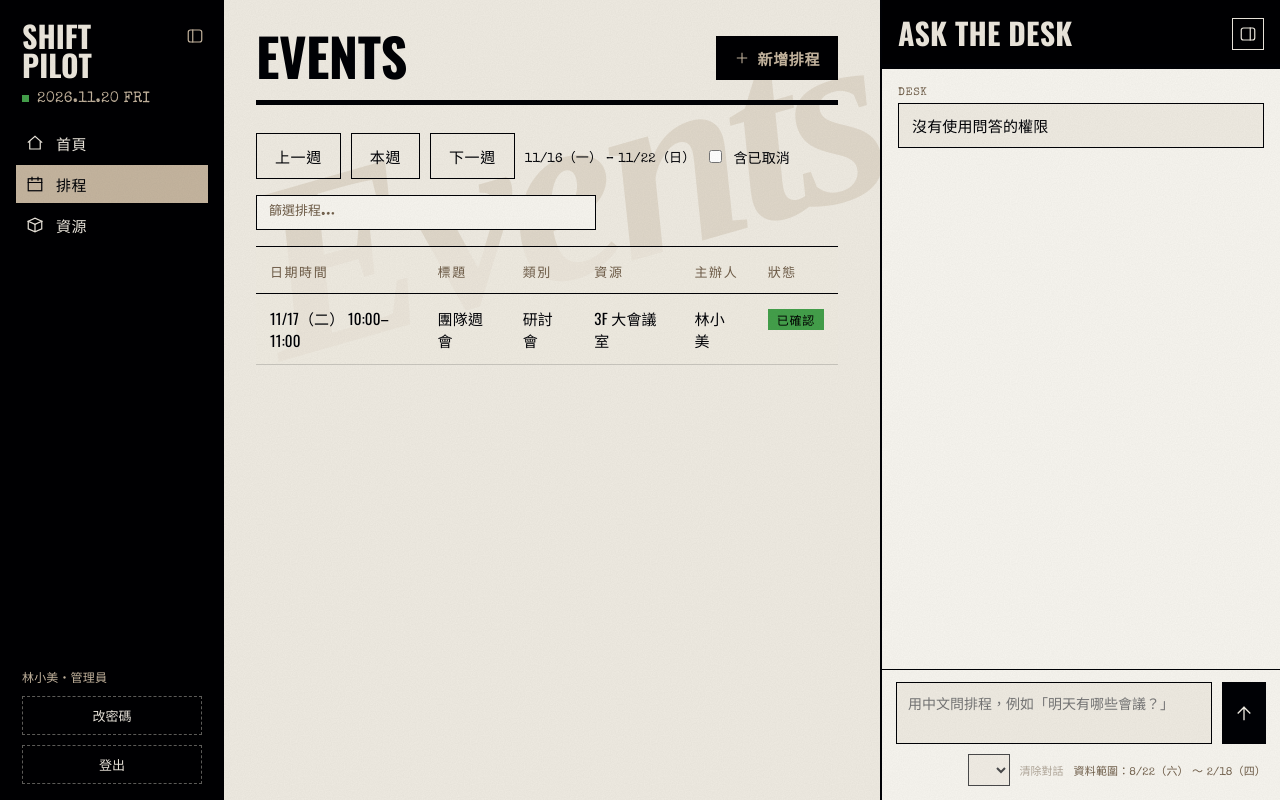
it: testEditKeepsCategoryOutsideTheList
Click the text "團隊週會" at (466, 329), box [424,294,509,365]
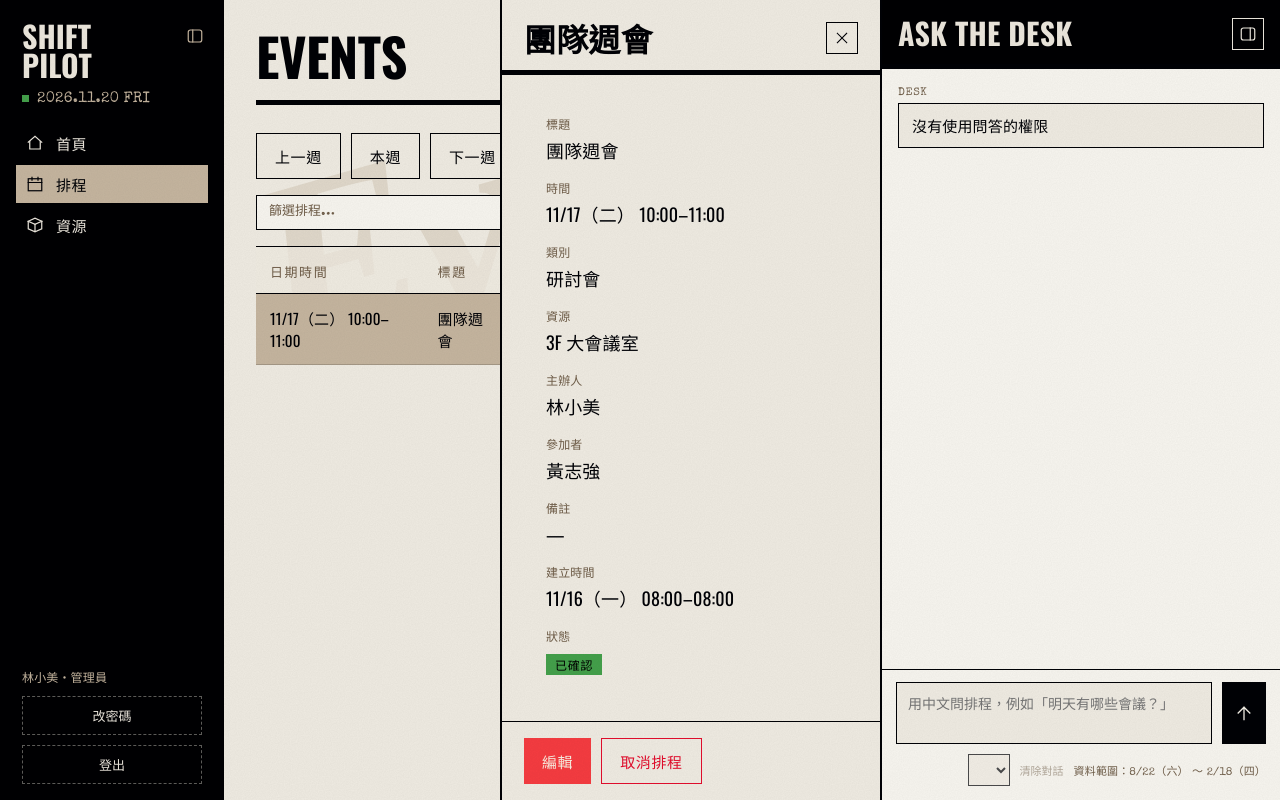
Click the button "編輯" at (558, 761), box [524,738,591,784]
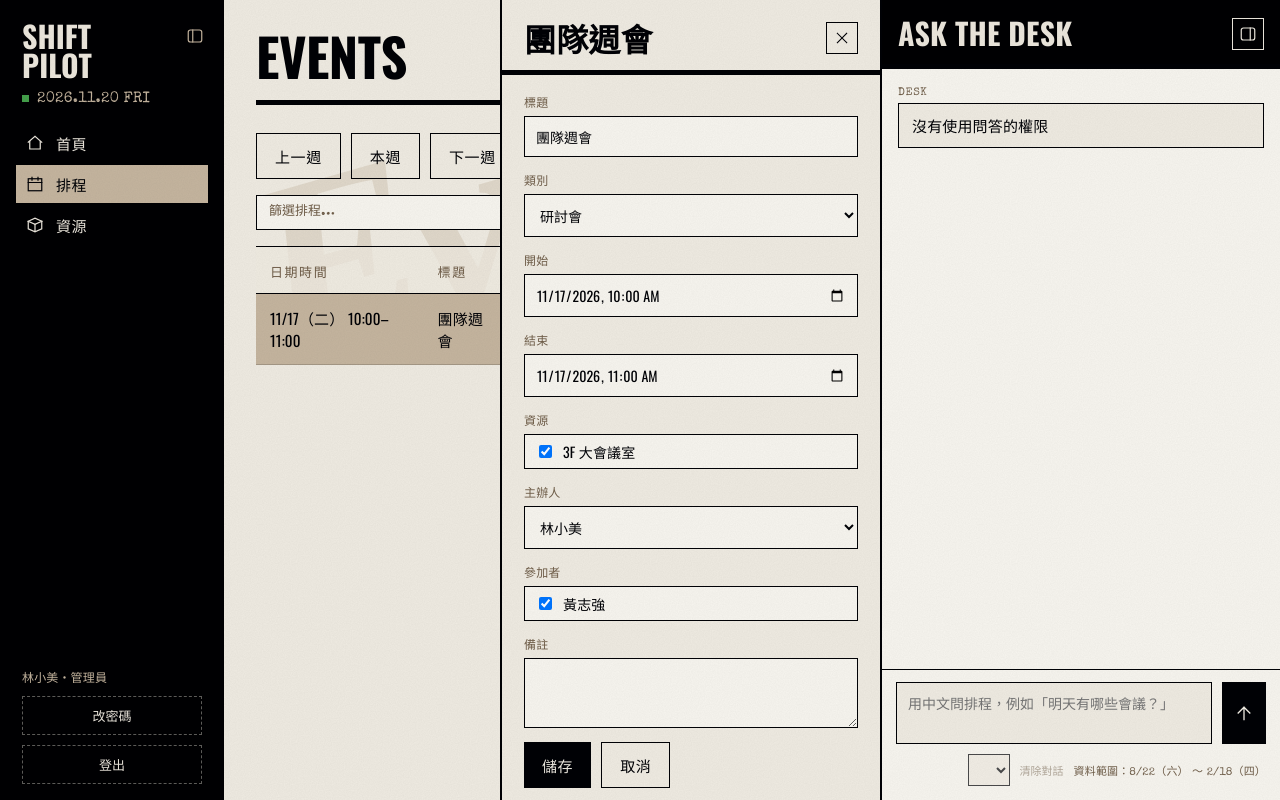
Now the dropdown labelled "類別" shows "研討會", box [524,194,858,237]
